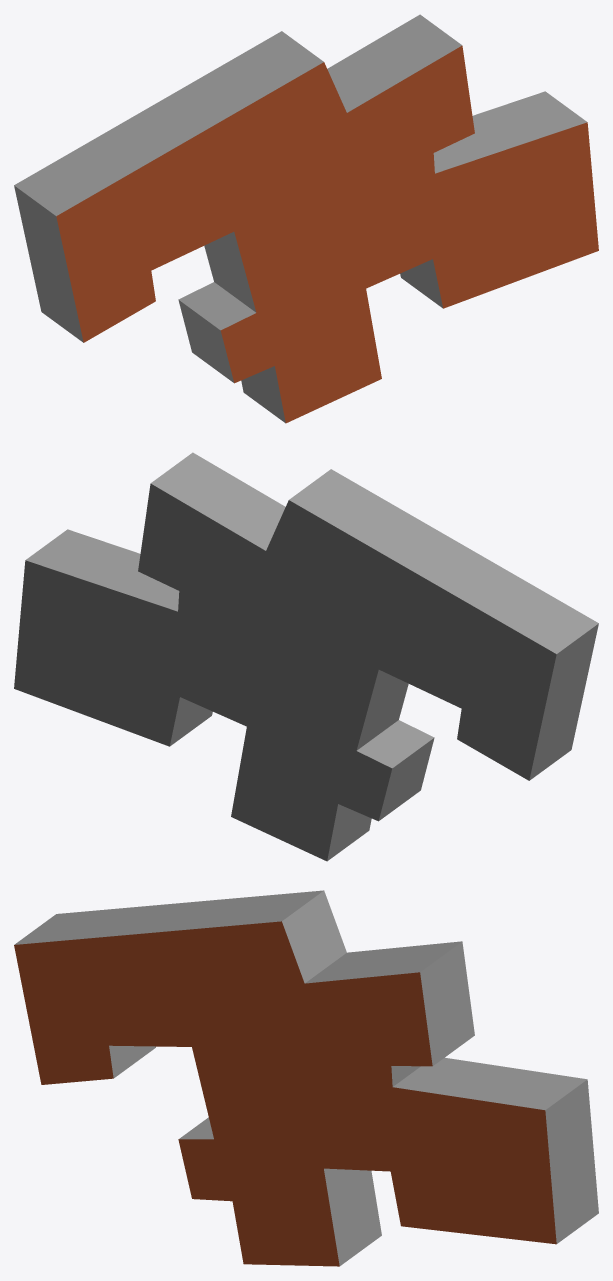
The model's file is construction_4166_assumed_A_Casa_h6m.obj.
3 renders of one model, top to bottom at view 1: azimuth 30°, elevation 25°; view 2: azimuth 150°, elevation 25°; view 3: azimuth 330°, elevation 25°, orthographic.
Visible parts, largest first — view 1: construction_4166_assumed_A_Casa; view 2: construction_4166_assumed_A_Casa; view 3: construction_4166_assumed_A_Casa.
Boxes of the visible parts, left/top/right/bottom form: construction_4166_assumed_A_Casa: left=14, top=14, right=598, bottom=423; construction_4166_assumed_A_Casa: left=14, top=452, right=598, bottom=861; construction_4166_assumed_A_Casa: left=14, top=890, right=598, bottom=1266.
Size of the model in its own units: 44.44 by 27.56 by 6.
